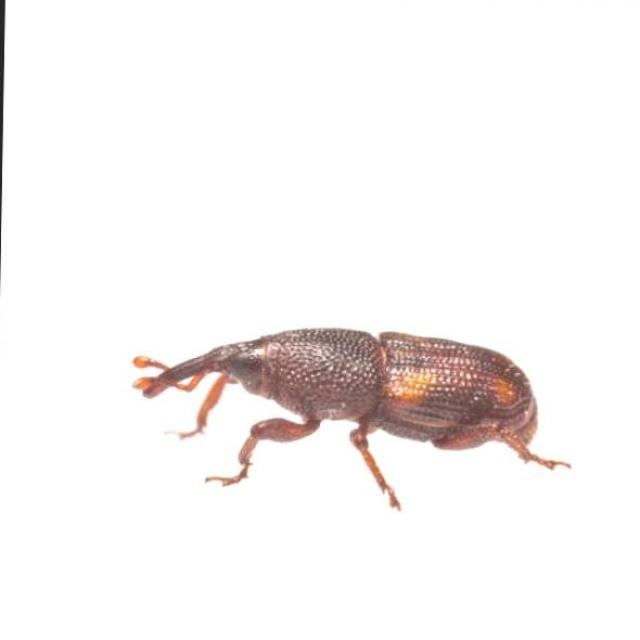ricebug: (135, 329, 569, 509)
